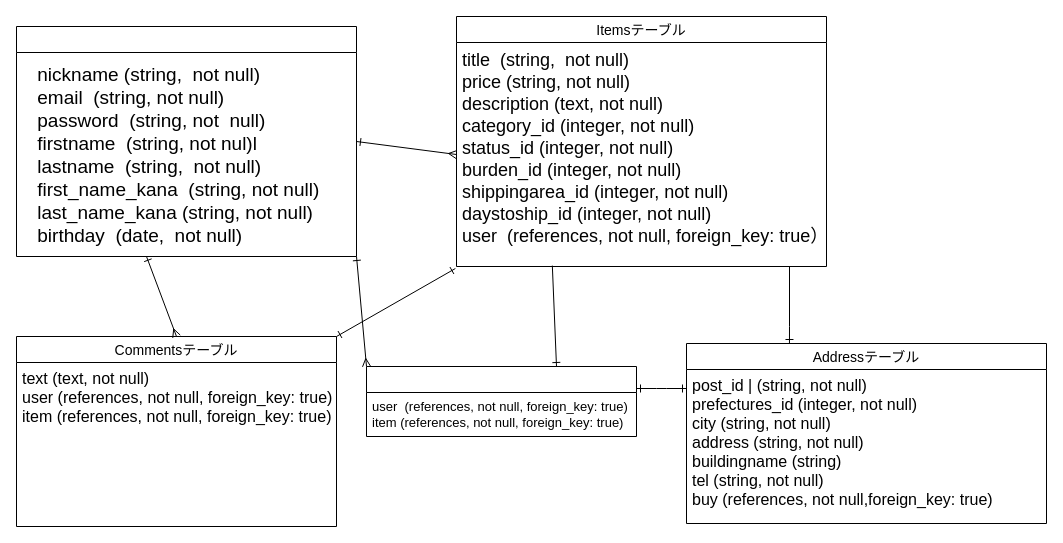
Some shapes in this 1063 by 543 pixel diagram are drawn without their labels. The shapes that lost their labels are listed below. From the top down, each one's centre as x and y in pixels, then its label:
the point at 186,141: Usersテーブル
the point at 501,401: Buysテーブル
